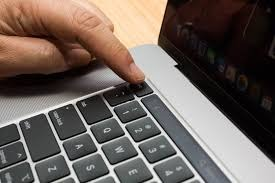keyboard: (3, 24, 262, 174)
